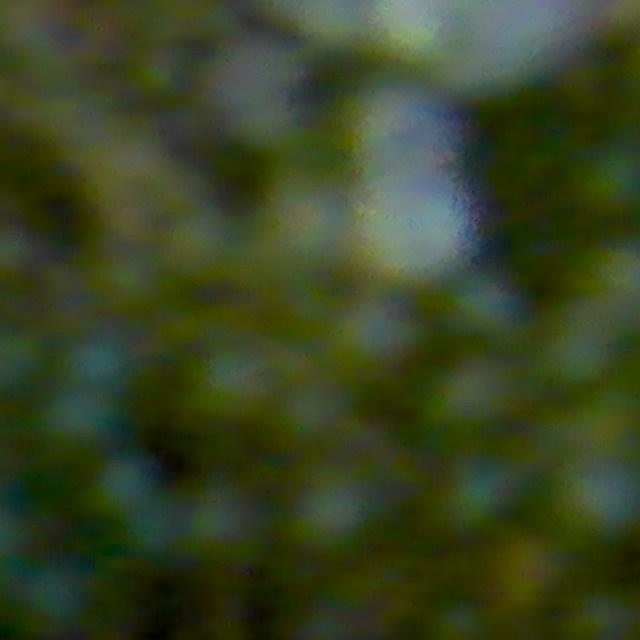SeaGrape: (349, 168, 473, 293), (252, 172, 359, 278), (346, 79, 453, 185), (290, 464, 383, 559), (329, 295, 421, 377), (193, 339, 279, 425), (555, 454, 639, 542), (431, 353, 519, 435), (490, 534, 570, 616), (182, 478, 261, 561), (438, 453, 518, 533), (12, 556, 92, 636), (537, 311, 615, 389), (39, 381, 119, 454), (447, 271, 525, 345), (87, 451, 159, 523), (275, 378, 349, 446), (576, 141, 639, 220), (62, 330, 130, 392), (567, 583, 640, 640), (426, 599, 490, 640)
